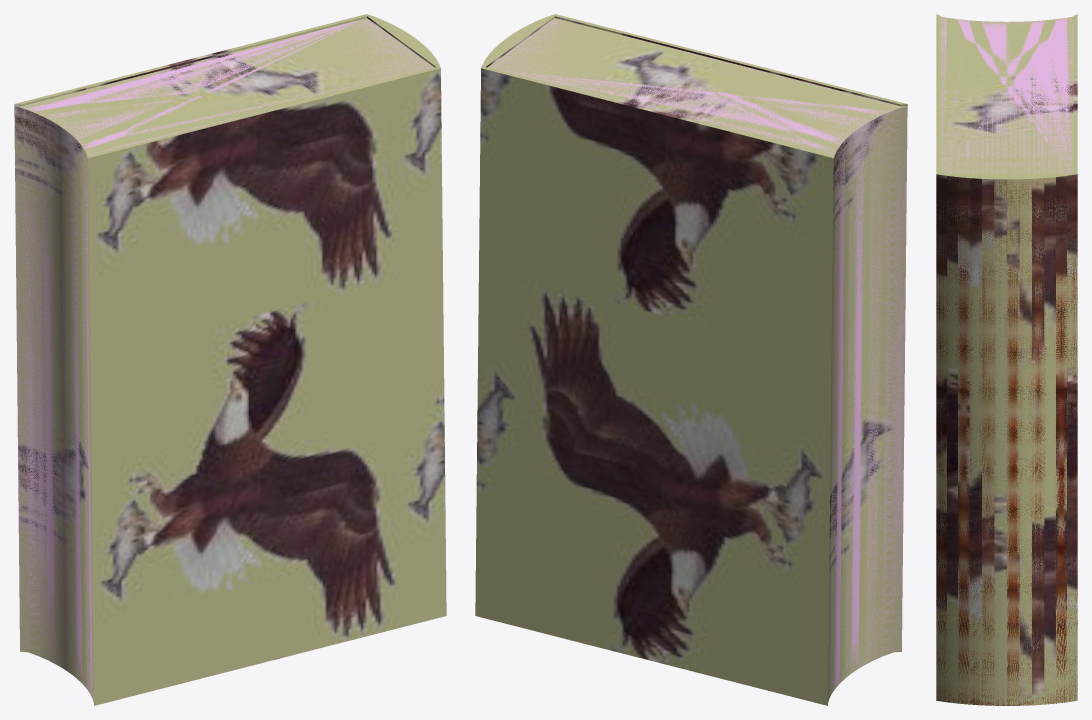
Rendered from boo1.fbx.
3 views of the same model, side by side, from view 1: azimuth 30°, elevation 25°; view 2: azimuth 150°, elevation 25°; view 3: azimuth 270°, elevation 25° (orthographic). The views are drawn at different scales.
Visible parts, largest first — view 1: Group1; view 2: Group1; view 3: Group1.
Part boxes in pixels (x1,y1,x2,y2): Group1: (14,14,446,705); Group1: (475,14,907,705); Group1: (936,14,1077,705).
Size of the model in its own units: 0.1573 by 0.2249 by 0.0546.
3 materials, 2 textured.
